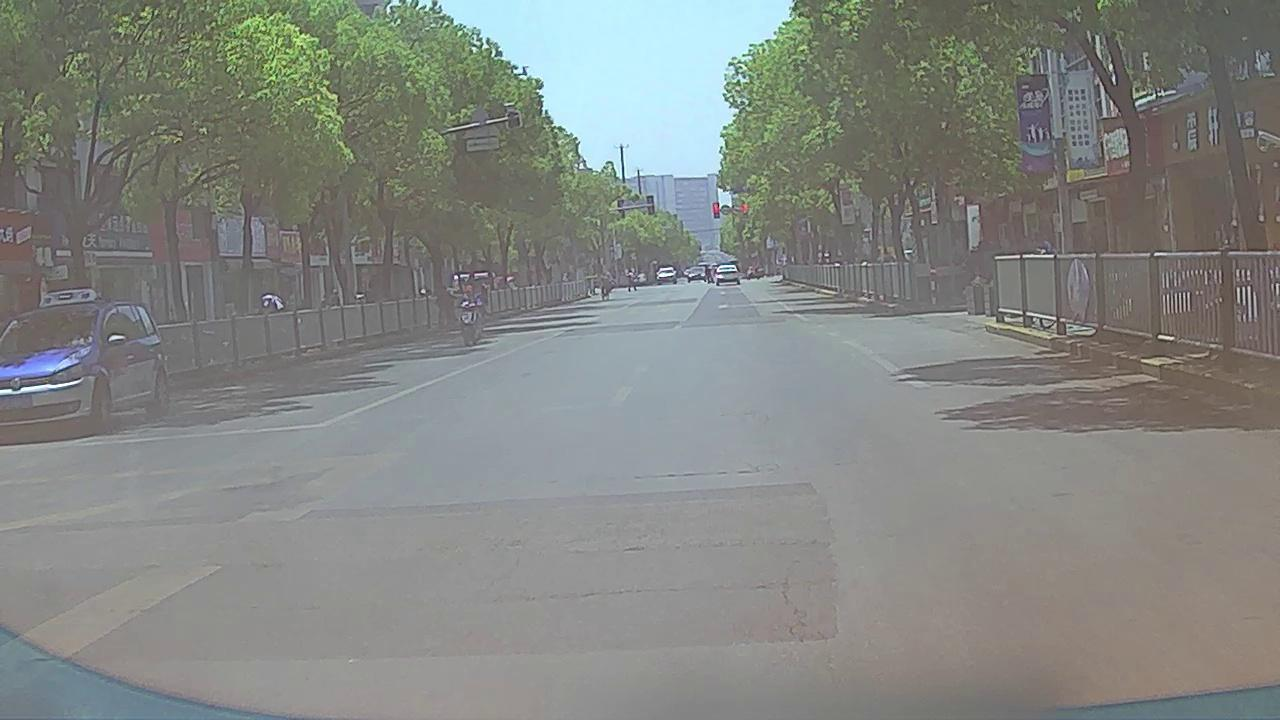traffic_light: (714, 203, 719, 217), (743, 203, 748, 217)
